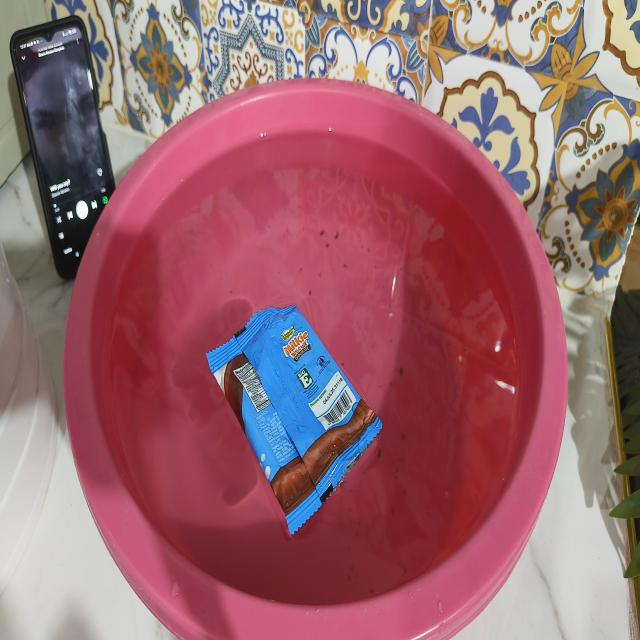Plastic Wrapper: (207, 305, 382, 534)
